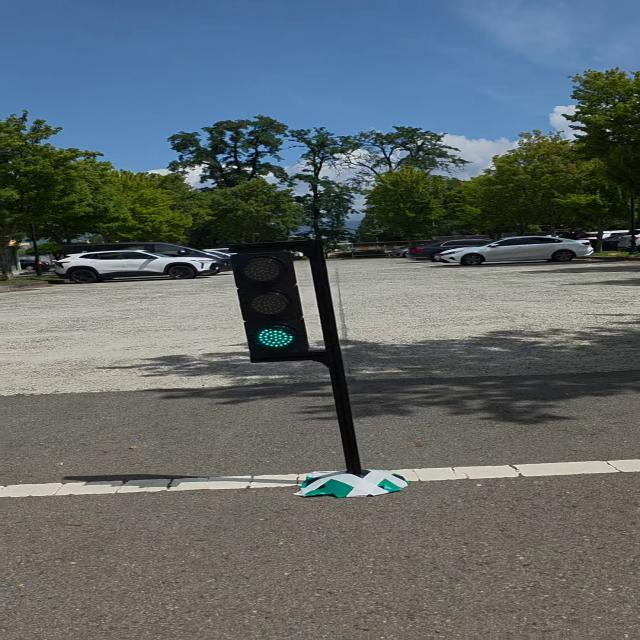green: (222, 250, 311, 360)
